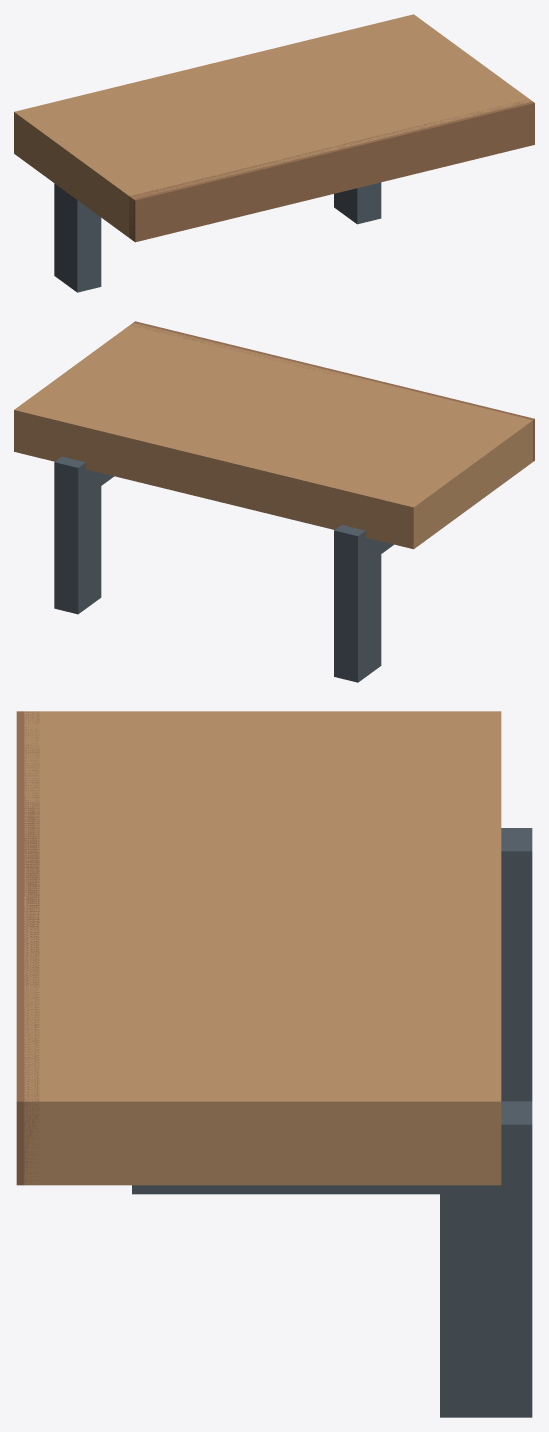
File: Shelf_Floating_60.fbx
3 views of the same model, one above another, from view 1: azimuth 30°, elevation 25°; view 2: azimuth 150°, elevation 25°; view 3: azimuth 270°, elevation 25° (orthographic). The views are drawn at different scales.
Parts seen in each view (by area): view 1: Shelf_Floating_60; view 2: Shelf_Floating_60; view 3: Shelf_Floating_60.
Part boxes in pixels (left/top/right/bottom): Shelf_Floating_60: left=14, top=14, right=534, bottom=292; Shelf_Floating_60: left=14, top=321, right=534, bottom=682; Shelf_Floating_60: left=16, top=711, right=532, bottom=1417.
Size of the model in its own units: 0.6 by 0.26 by 0.335.
